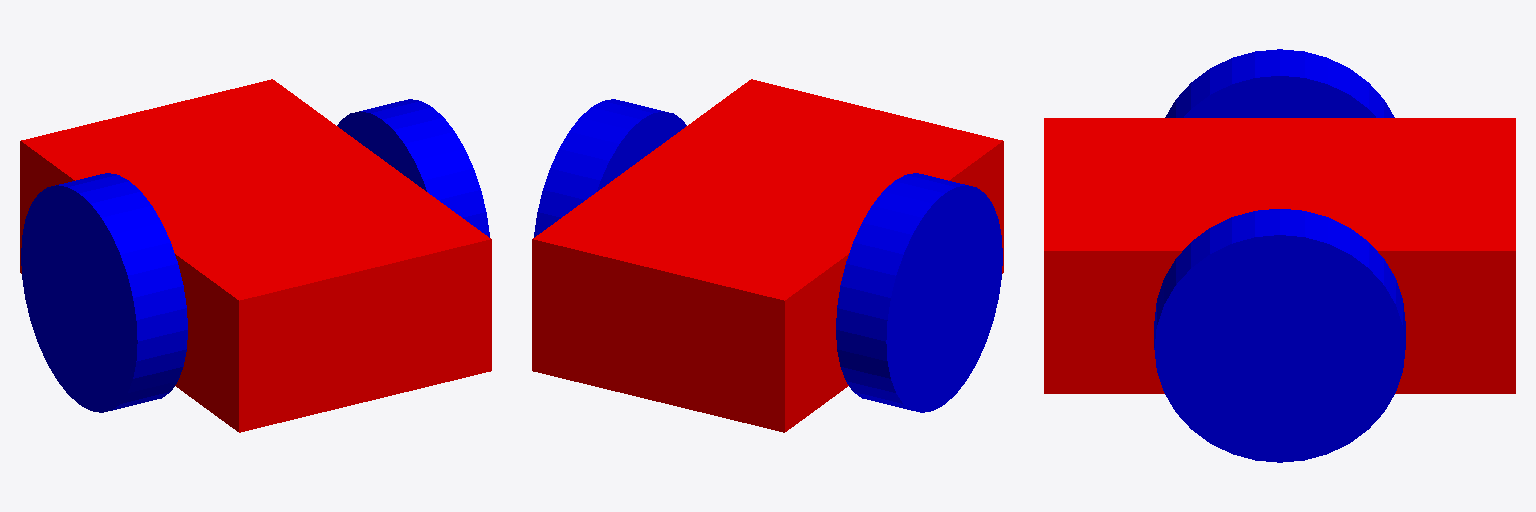
URDF robot description (bot):
<?xml version="1.0" ?>
<robot name="bot" xmlns:xacro="http://www.ros.org/wiki/xacro">

    <link name="base_footprint"/>

    <link name="base_link">
        <visual>
            <origin xyz="0.0 0.0 0.0" rpy="0.0 0.0 0.0"/>
            <geometry>
                <box size="0.1 0.15 0.05"/>
            </geometry>
            <material name="red">
                <color rgba="1.0 0.0 0.0 1.0"/>
            </material>
        </visual>
    </link>

    <joint name="base_joint" type="fixed">
        <origin xyz="0.0 0.0 0.04" rpy="0.0 0.0 0.0"/>
        <parent link="base_footprint"/>
        <child link="base_link"/>
    </joint>

    <link name="right_wheel_link">
        <visual>
            <origin xyz="0.0 0.0 0.0" rpy="0.0 0.0 0.0"/>
            <geometry>
                <cylinder radius="0.04" length="0.02"/>
            </geometry>
            <material name="blue">
                <color rgba="0.0 0.0 1.0 1.0"/>
            </material>
        </visual>
    </link>

    <joint name="right_wheel_joint" type="fixed">
        <origin xyz="-0.06 0.0 0.0" rpy="0.0 1.57 0.0"/>
        <parent link="base_link"/>
        <child link="right_wheel_link"/>
    </joint>

    <link name="left_wheel_link">
        <visual>
            <origin xyz="0.0 0.0 0.0" rpy="0.0 0.0 0.0"/>
            <geometry>
                <cylinder radius="0.04" length="0.02"/>
            </geometry>
            <material name="blue">
                <color rgba="0.0 0.0 1.0 1.0"/>
            </material>
        </visual>
    </link>

    <joint name="left_wheel_joint" type="continuous">
        <origin xyz="0.06 0.0 0.0" rpy="0.0 1.57 0.0"/>
        <parent link="base_link"/>
        <child link="left_wheel_link"/>
        <axis xyz="0.0 0.0 1.0"/>
    </joint>

    <link name="front_castor_link">
        <visual>
            <origin xyz="0.0 0.0 0.0" rpy="0.0 0.0 0.0"/>
            <geometry>
                <sphere radius="0.0075"/>
            </geometry>
            <material name="green">
                <color rgba="0.0 1.0 0.0 1.0"/>
            </material>
        </visual>
    </link>

    <joint name="front_castor_joint" type="fixed">
        <origin xyz="0.00 0.04 -0.0310" rpy="0.0 0.0 0.0"/>
        <parent link="base_link"/>
        <child link="front_castor_link"/>
    </joint>

    <link name="back_castor_link">
        <visual>
            <origin xyz="0.0 0.0 0.0" rpy="0.0 0.0 0.0"/>
            <geometry>
                <sphere radius="0.0075"/>
            </geometry>
            <material name="green">
                <color rgba="0.0 1.0 0.0 1.0"/>
            </material>
        </visual>
    </link>

    <joint name="back_castor_joint" type="fixed">
        <origin xyz="0.00 -0.04 -0.0310" rpy="0.0 0.0 0.0"/>
        <parent link="base_link"/>
        <child link="back_castor_link"/>
    </joint>

</robot>

--- Facts derived from the render (not from the file) ---
Views: 3 orthographic renders of the robot side by side, from view 1: azimuth 30°, elevation 25°; view 2: azimuth 150°, elevation 25°; view 3: azimuth 270°, elevation 25°.
Robot: bot — 6 links, 5 joints (1 continuous, 4 fixed); root link base_footprint; default pose: all joints at 0.
Visible links, largest first — view 1: base_link, right_wheel_link, left_wheel_link; view 2: base_link, right_wheel_link, left_wheel_link; view 3: base_link, left_wheel_link, right_wheel_link.
Link boxes in pixels (x1=…): base_link: x1=20, y1=79, x2=491, y2=432; right_wheel_link: x1=21, y1=173, x2=187, y2=412; left_wheel_link: x1=337, y1=99, x2=489, y2=237; base_link: x1=532, y1=79, x2=1003, y2=432; right_wheel_link: x1=836, y1=173, x2=1002, y2=412; left_wheel_link: x1=534, y1=99, x2=686, y2=237; base_link: x1=1044, y1=118, x2=1515, y2=393; left_wheel_link: x1=1154, y1=209, x2=1405, y2=462; right_wheel_link: x1=1165, y1=49, x2=1394, y2=117.
Size in the robot's own frame: 0.1401 by 0.15 by 0.08 metres.
Geometry: primitives only (box / cylinder / sphere), no mesh files.